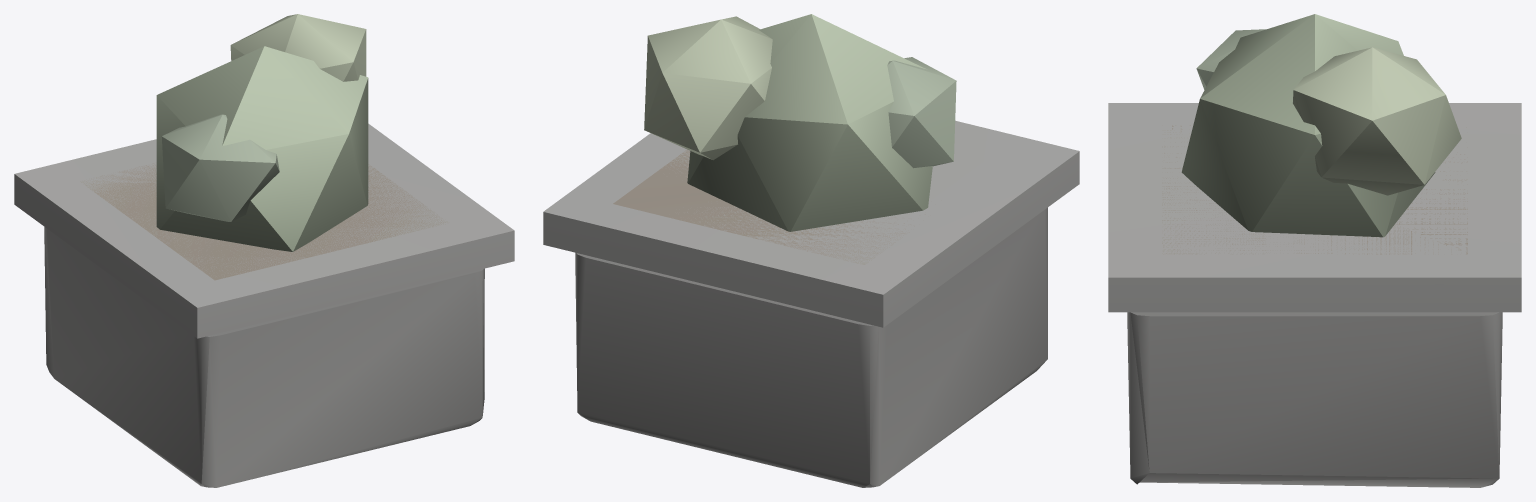
Rendered from planterbox.lod1.glb.
The picture shows the model from 3 angles, left to right: view 1: azimuth 30°, elevation 25°; view 2: azimuth 150°, elevation 25°; view 3: azimuth 270°, elevation 25°; orthographic projection. The views are drawn at different scales.
Bounding box in the file's own units: 1.08 × 1.15 × 1.08.
